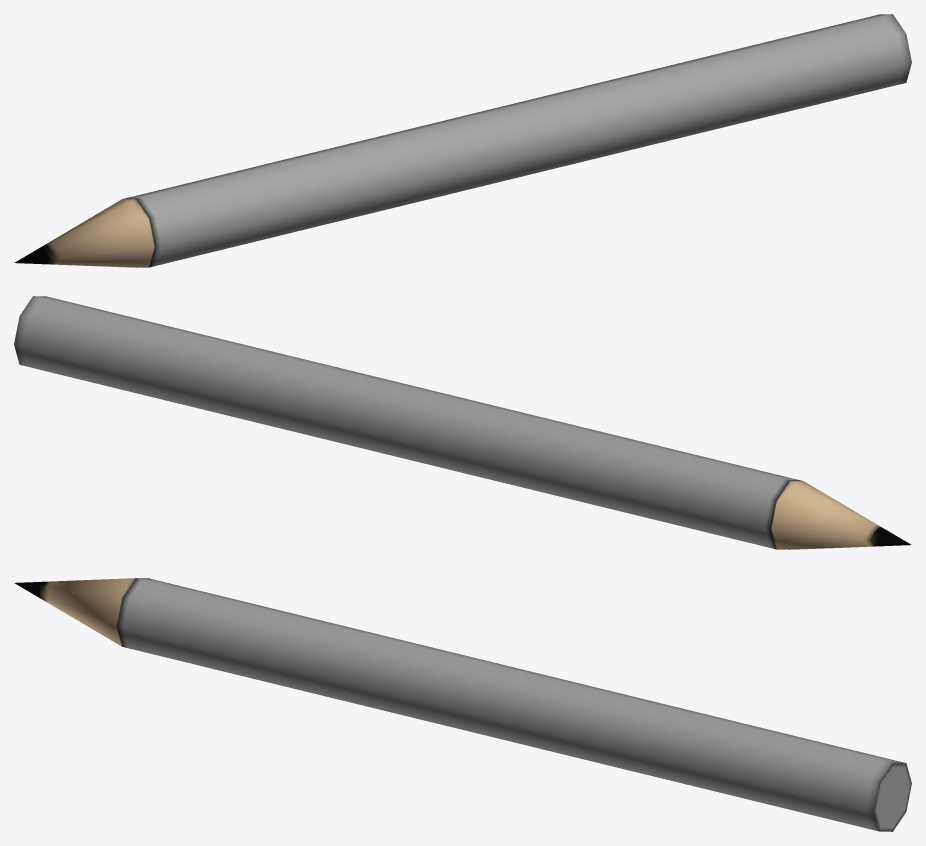
The model's file is pencil3.fbx.
3 views of the same model, one above another, from view 1: azimuth 30°, elevation 25°; view 2: azimuth 150°, elevation 25°; view 3: azimuth 330°, elevation 25° (orthographic).
Visible parts, largest first — view 1: polySurface432; view 2: polySurface432; view 3: polySurface432.
Part boxes in pixels (<box>): polySurface432: <box>14,14,911,267</box>; polySurface432: <box>14,296,911,549</box>; polySurface432: <box>14,578,911,831</box>.
Bounding box in the file's own units: 0.1847 × 0.0138 × 0.0138.
